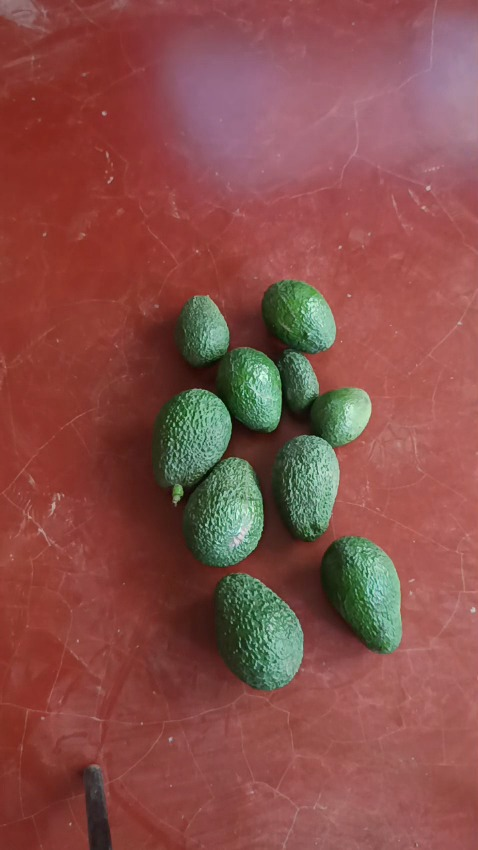Primera: (212, 573, 304, 688), (320, 536, 401, 651), (181, 457, 265, 565), (151, 388, 232, 495), (271, 435, 340, 541)
Segunda: (214, 346, 282, 432), (261, 279, 336, 353)
Tercera: (175, 294, 229, 366), (309, 387, 372, 448), (277, 349, 320, 415)
